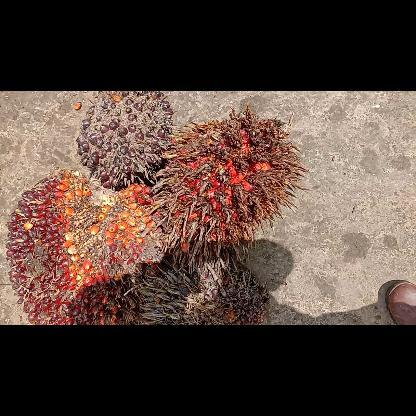Kurang masak: (76, 90, 174, 188)
TBS abnormal: (166, 258, 270, 324)
TBS masak: (6, 170, 152, 324)
Terlalu masak: (154, 106, 304, 272)
